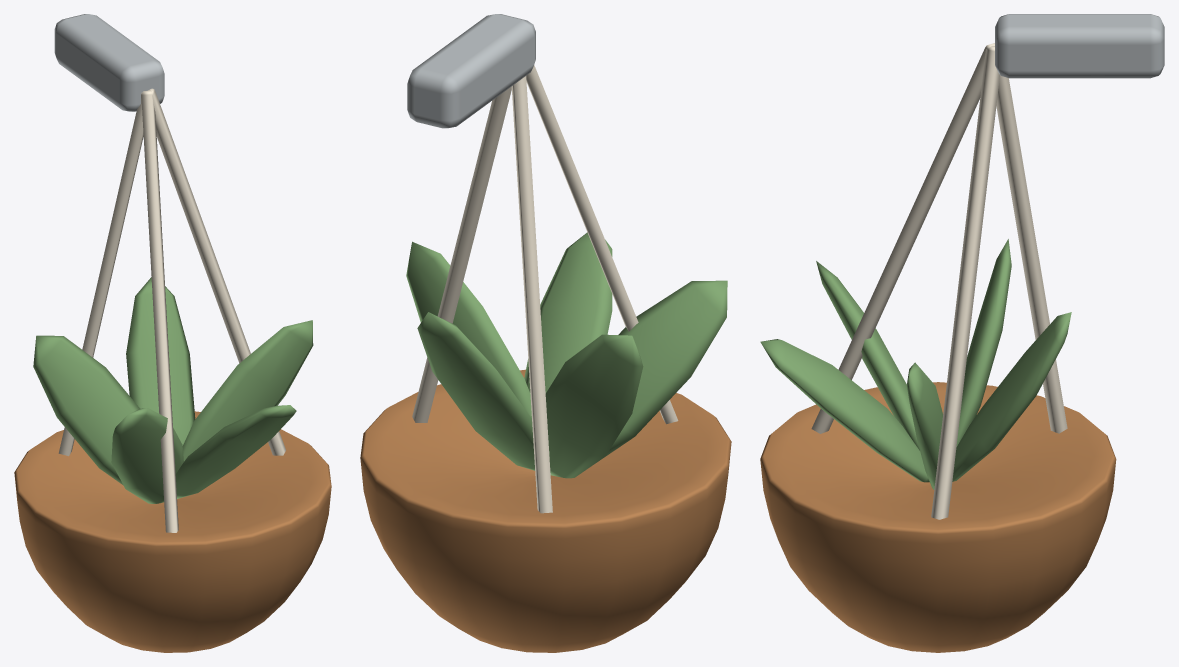
The model's file is coconut_wall_planter.glb.
3 renders of one model, left to right at view 1: azimuth 30°, elevation 25°; view 2: azimuth 150°, elevation 25°; view 3: azimuth 270°, elevation 25°, orthographic. The views are drawn at different scales.
Visible parts, largest first — view 1: coconut_wall_planter_mesh; view 2: coconut_wall_planter_mesh; view 3: coconut_wall_planter_mesh.
Boxes of the visible parts, x1,y1,x2,y2 form: coconut_wall_planter_mesh: [14, 14, 331, 652]; coconut_wall_planter_mesh: [360, 14, 731, 652]; coconut_wall_planter_mesh: [760, 14, 1164, 652].
Size of the model in its own units: 0.2515 by 0.4706 by 0.2858.
